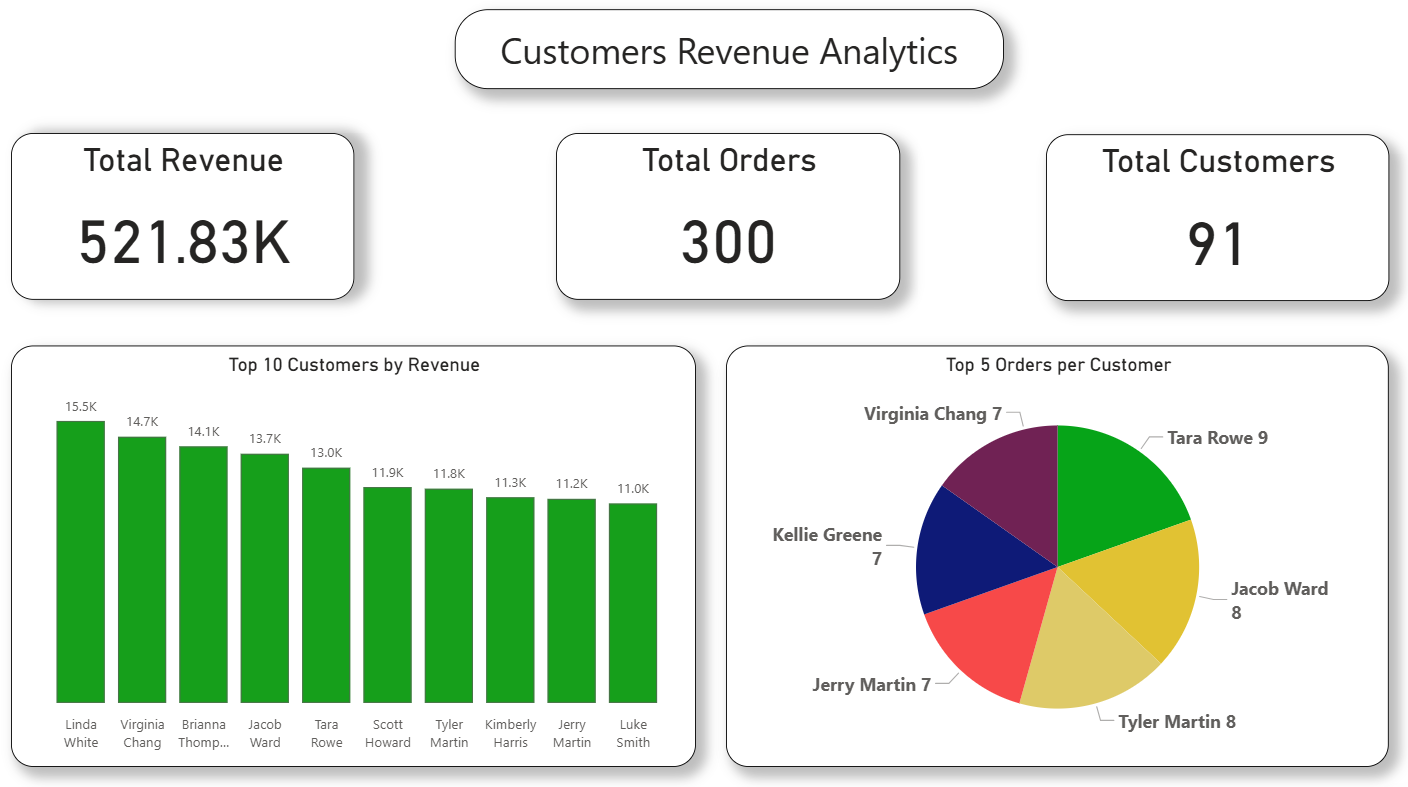

This screenshot's page, from the dashboard's own definition file:
{"tool":"powerbi","page":{"name":"Page 1","canvas":[1280,720],"ordinal":0},"visuals":[{"type":"columnChart","title":" Top 10 Customers by Revenue","fields":{"Category":["CUSTOMER_REVENUE.CUSTOMERNAME"],"Y":["CUSTOMER_REVENUE.REVENUE"]},"box":[13.5,317.9,617.5,380.3],"z":0},{"type":"card","title":"Total Revenue","fields":{"Values":["CUSTOMER_REVENUE.REVENUE"]},"box":[13.5,126,309.4,150.4],"z":1000},{"type":"pieChart","title":"Top 5 Orders per Customer","fields":{"Y":["CUSTOMER_REVENUE.ORDERCOUNT"],"Category":["CUSTOMER_REVENUE.CUSTOMERNAME"]},"box":[657.9,317.9,598,380.3],"z":2000},{"type":"card","title":"Total Orders","fields":{"Values":["CUSTOMER_REVENUE.ORDERCOUNT"]},"box":[504.5,126.2,310.6,150.4],"z":3000},{"type":"card","title":"Total Customers","fields":{"Values":["CUSTOMER_REVENUE.CUSTOMERID"]},"box":[946.5,127.2,309.4,150.4],"z":4000},{"type":"textbox","box":[413.3,14.7,495.2,72.1],"z":4001}]}

Visuals, with their boxes in screenshot pixels (x1, y1, x2, y2), scaled from the page's 1280x720 canvas onto the 1408x787 screenshot:
" Top 10 Customers by Revenue" columnChart: crop(15, 347, 694, 763)
"Total Revenue" card: crop(15, 138, 355, 302)
"Top 5 Orders per Customer" pieChart: crop(724, 347, 1381, 763)
"Total Orders" card: crop(555, 138, 897, 302)
"Total Customers" card: crop(1041, 139, 1381, 303)
textbox: crop(455, 16, 999, 95)
